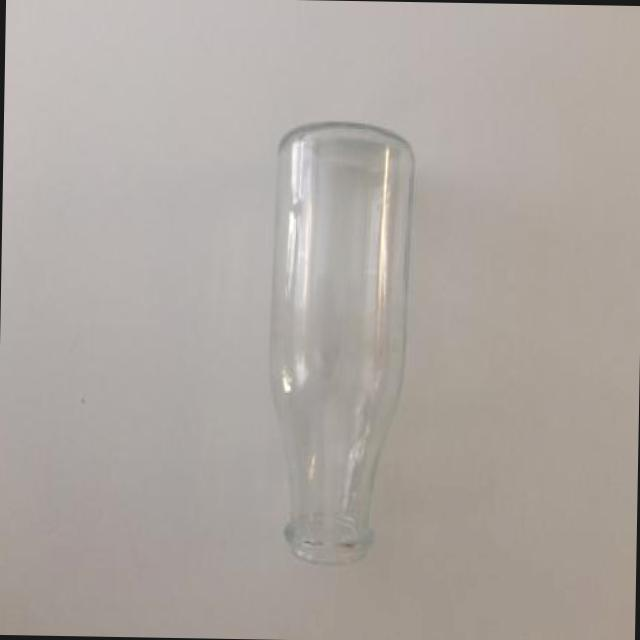chai_thuy_tinh: (267, 121, 416, 569)
